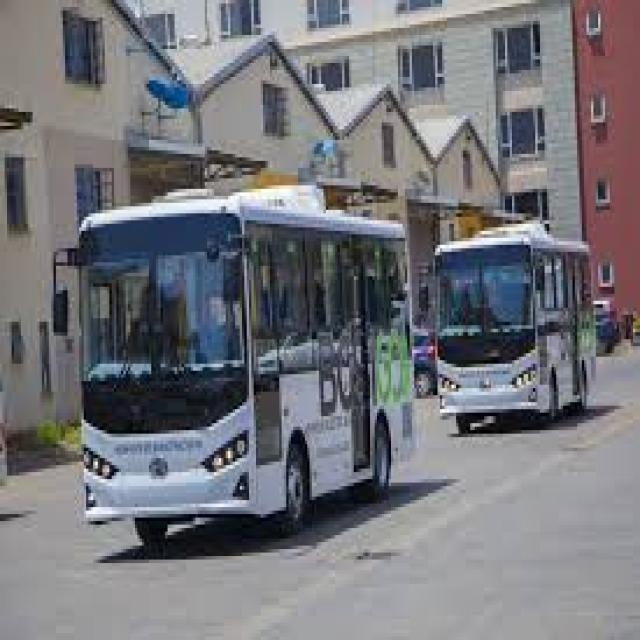bus: (19, 132, 421, 560), (428, 200, 620, 450)
